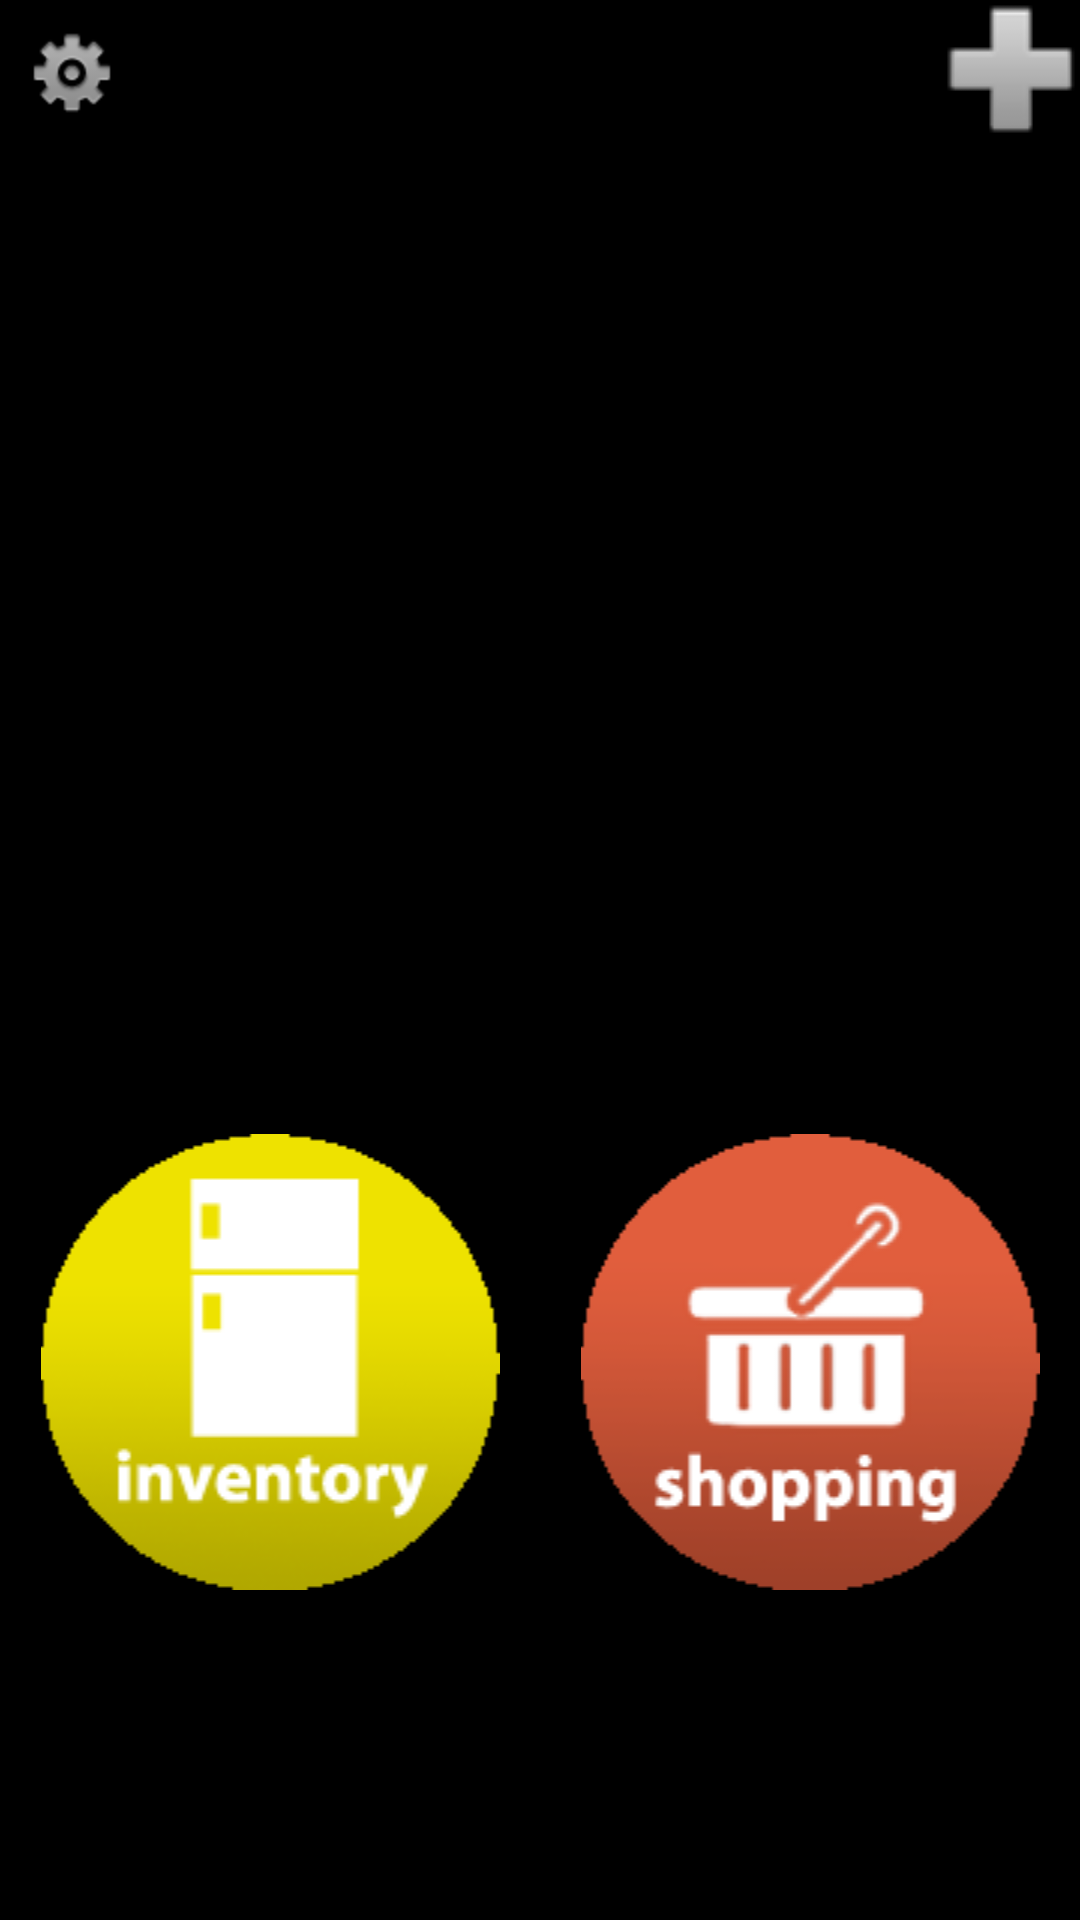

Named icons in this screenshot (1080w x 1920h) and their bounding boxes, (x1, y1, x2, y2):
plus: (948, 6, 1073, 132)
settings: (33, 34, 111, 112)
